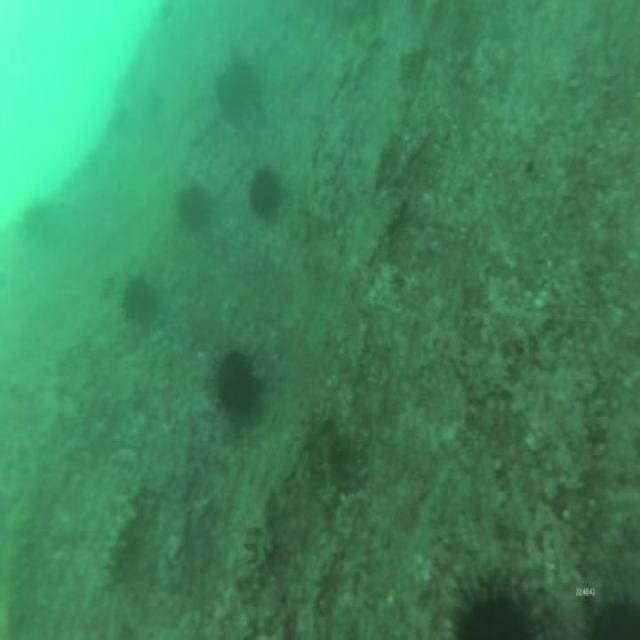echinus: (443, 565, 552, 640), (210, 340, 268, 438), (572, 584, 639, 640), (117, 270, 161, 335), (246, 163, 287, 226), (172, 180, 212, 242), (214, 66, 252, 126)
holothurian: (99, 491, 144, 599), (0, 493, 33, 640)
scallop: (20, 193, 54, 240)
